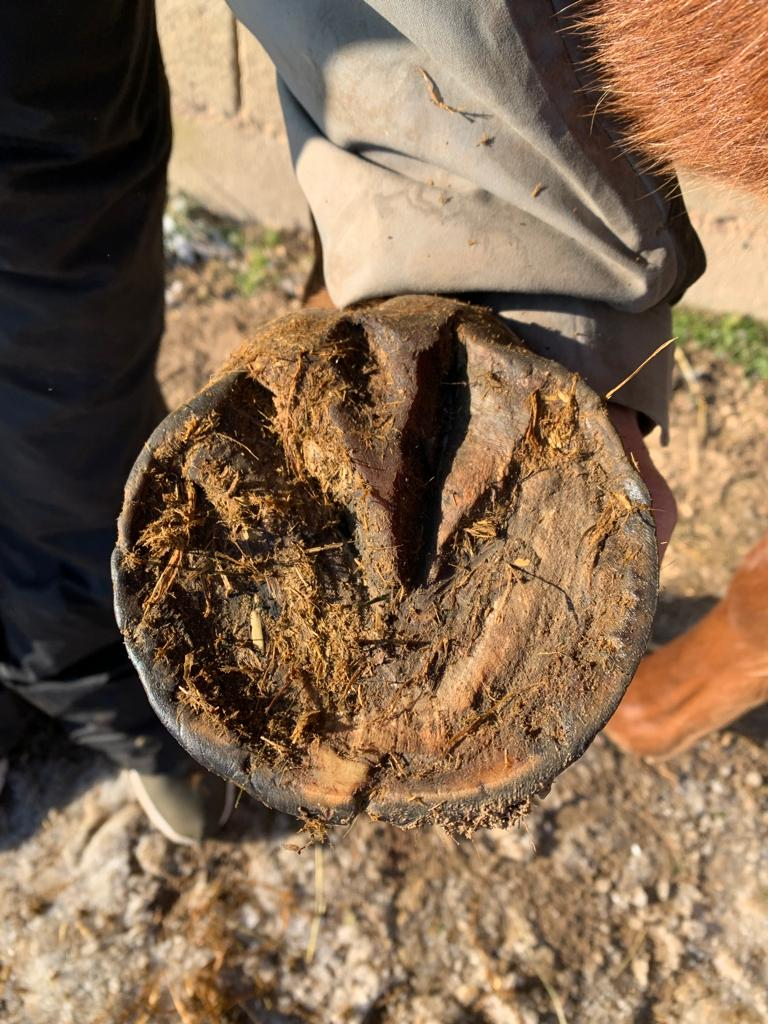horsesole: (110, 328, 658, 835)
